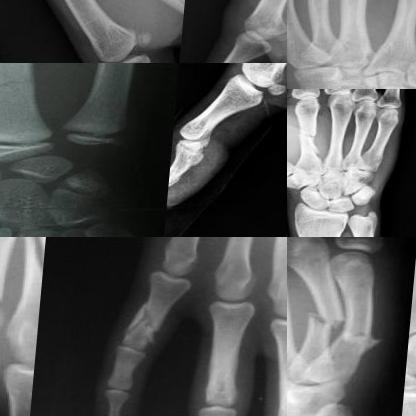fracture: (10, 237, 49, 318), (121, 302, 169, 348), (308, 302, 351, 339), (342, 320, 387, 355), (299, 121, 330, 159)
